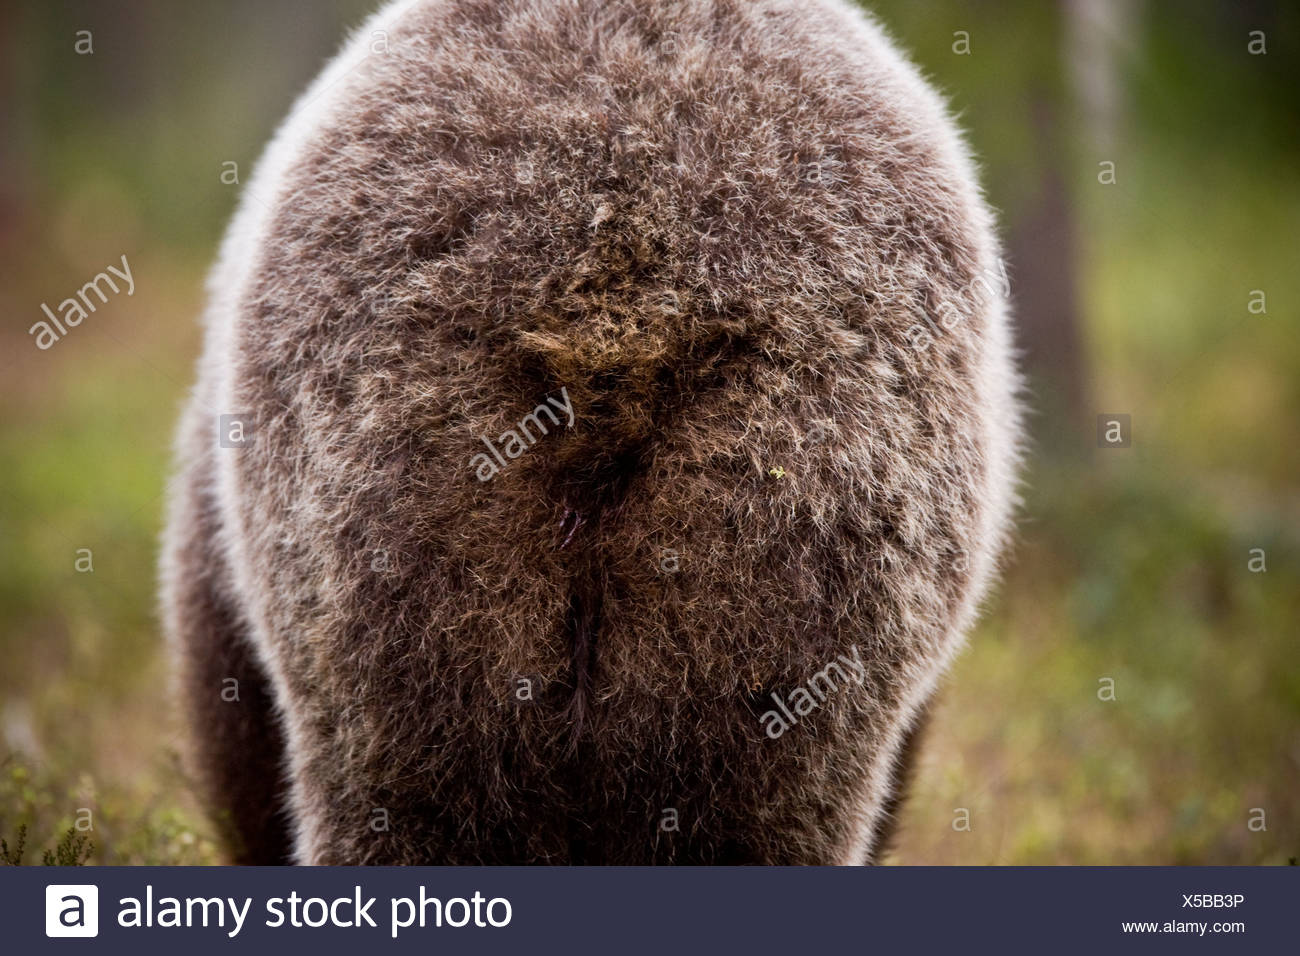bear: (167, 4, 1023, 857)
